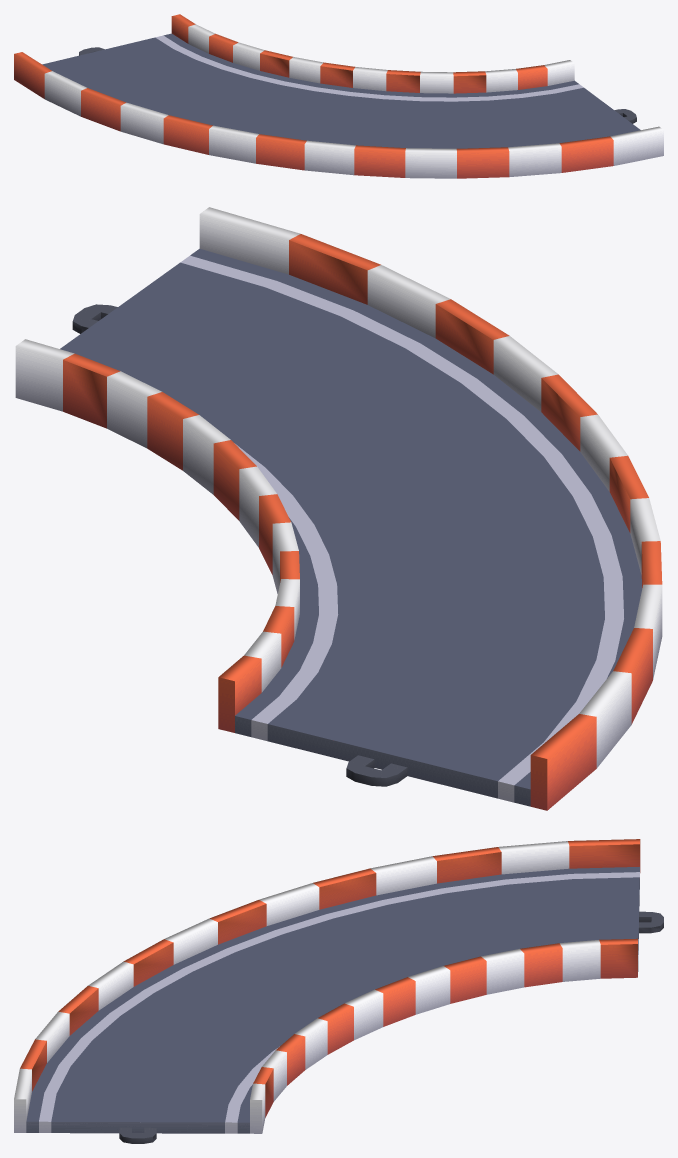
The model's file is track-road-wide-corner-large.022_lev1.glb.
3 views of the same model, one above another, from view 1: azimuth 30°, elevation 25°; view 2: azimuth 150°, elevation 25°; view 3: azimuth 270°, elevation 25° (orthographic). The views are drawn at different scales.
Visible parts, largest first — view 1: track-road-wide-corner-large.022_lev1; view 2: track-road-wide-corner-large.022_lev1; view 3: track-road-wide-corner-large.022_lev1.
Boxes of the visible parts, <box> form: track-road-wide-corner-large.022_lev1: <box>14,14,663,178</box>; track-road-wide-corner-large.022_lev1: <box>15,207,662,810</box>; track-road-wide-corner-large.022_lev1: <box>14,839,663,1143</box>.
Size of the model in its own units: 5.17 by 0.3 by 5.23.
Materials: 1 (1 with a texture image).
